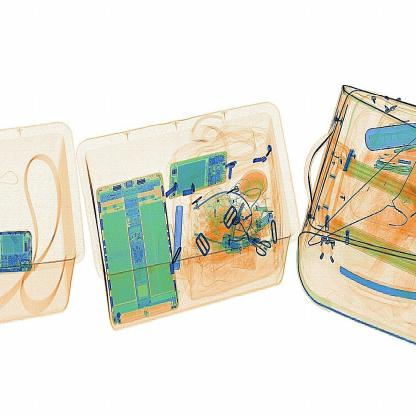pliers: (171, 198, 190, 276)
